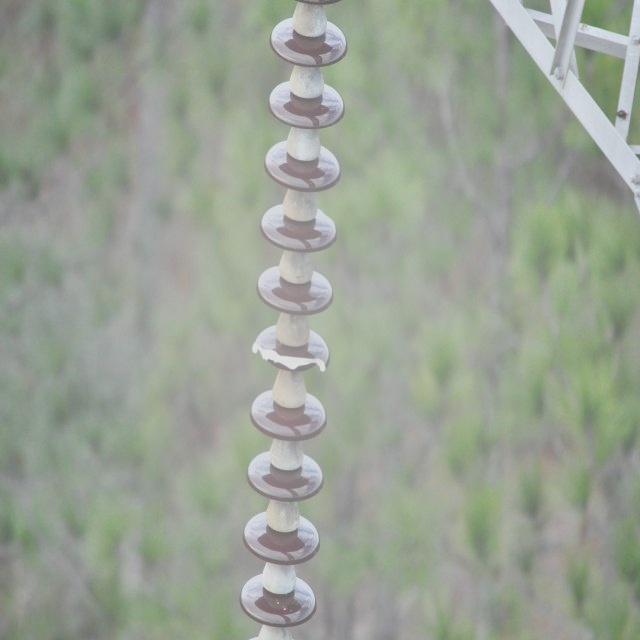broken: (252, 338, 328, 377)
insulator: (237, 13, 346, 624)
